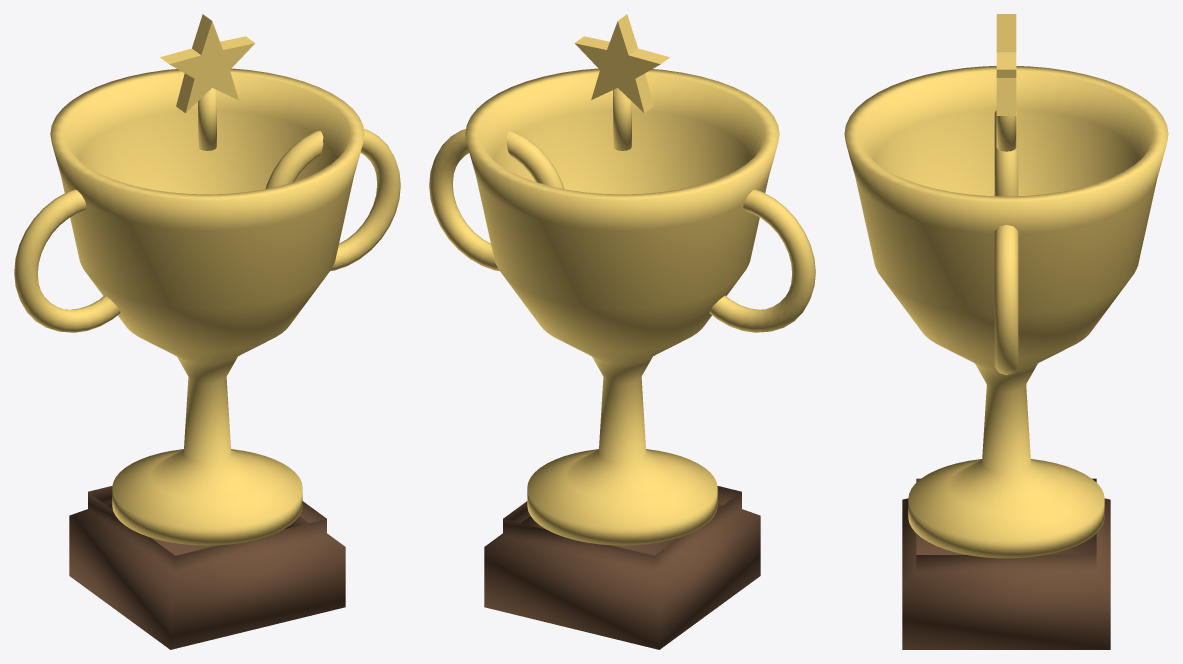
The model's file is trophy.glb.
The picture shows the model from 3 angles, left to right: view 1: azimuth 30°, elevation 25°; view 2: azimuth 150°, elevation 25°; view 3: azimuth 270°, elevation 25°; orthographic projection. The views are drawn at different scales.
Parts seen in each view (by area): view 1: cup, plinth, handle-1, handle1, star, star_post; view 2: cup, plinth, handle-1, handle1, star, star_post; view 3: cup, plinth, handle1, star, handle-1, star_post.
Boxes of the visible parts, x1,y1,x2,y2 form: cup: [50, 68, 364, 545]; plinth: [69, 486, 345, 649]; handle-1: [14, 189, 120, 332]; handle1: [265, 129, 400, 270]; star: [160, 14, 255, 112]; star_post: [198, 88, 216, 150]; cup: [465, 68, 779, 545]; plinth: [484, 486, 760, 649]; handle-1: [709, 189, 815, 332]; handle1: [429, 129, 564, 270]; star: [574, 14, 669, 112]; star_post: [613, 88, 631, 150]; cup: [844, 66, 1168, 558]; plinth: [902, 478, 1110, 649]; handle1: [994, 225, 1018, 375]; star: [996, 14, 1016, 115]; handle-1: [994, 110, 1018, 196]; star_post: [996, 116, 1016, 151].
Size of the model in its own units: 0.93 by 1.33 by 0.66.
